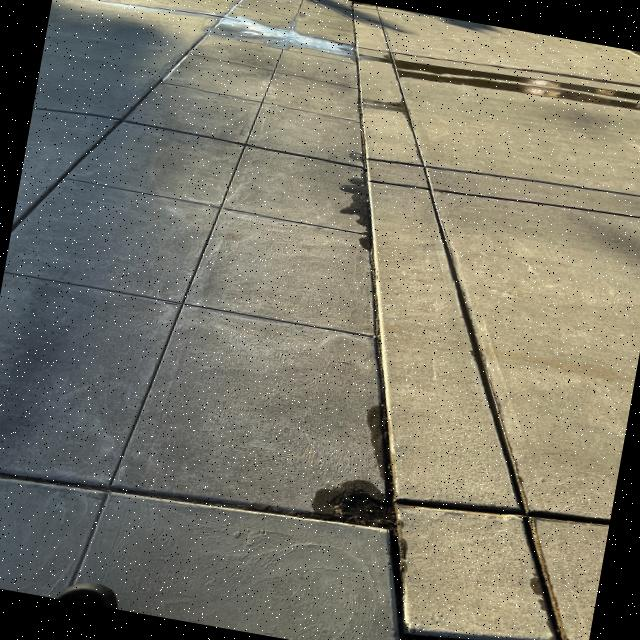walkway: (0, 272, 380, 640), (1, 189, 369, 526), (70, 129, 362, 441), (150, 56, 358, 286), (220, 0, 358, 171)
walkway-edge: (284, 174, 506, 640), (310, 0, 415, 214), (10, 118, 110, 252)
